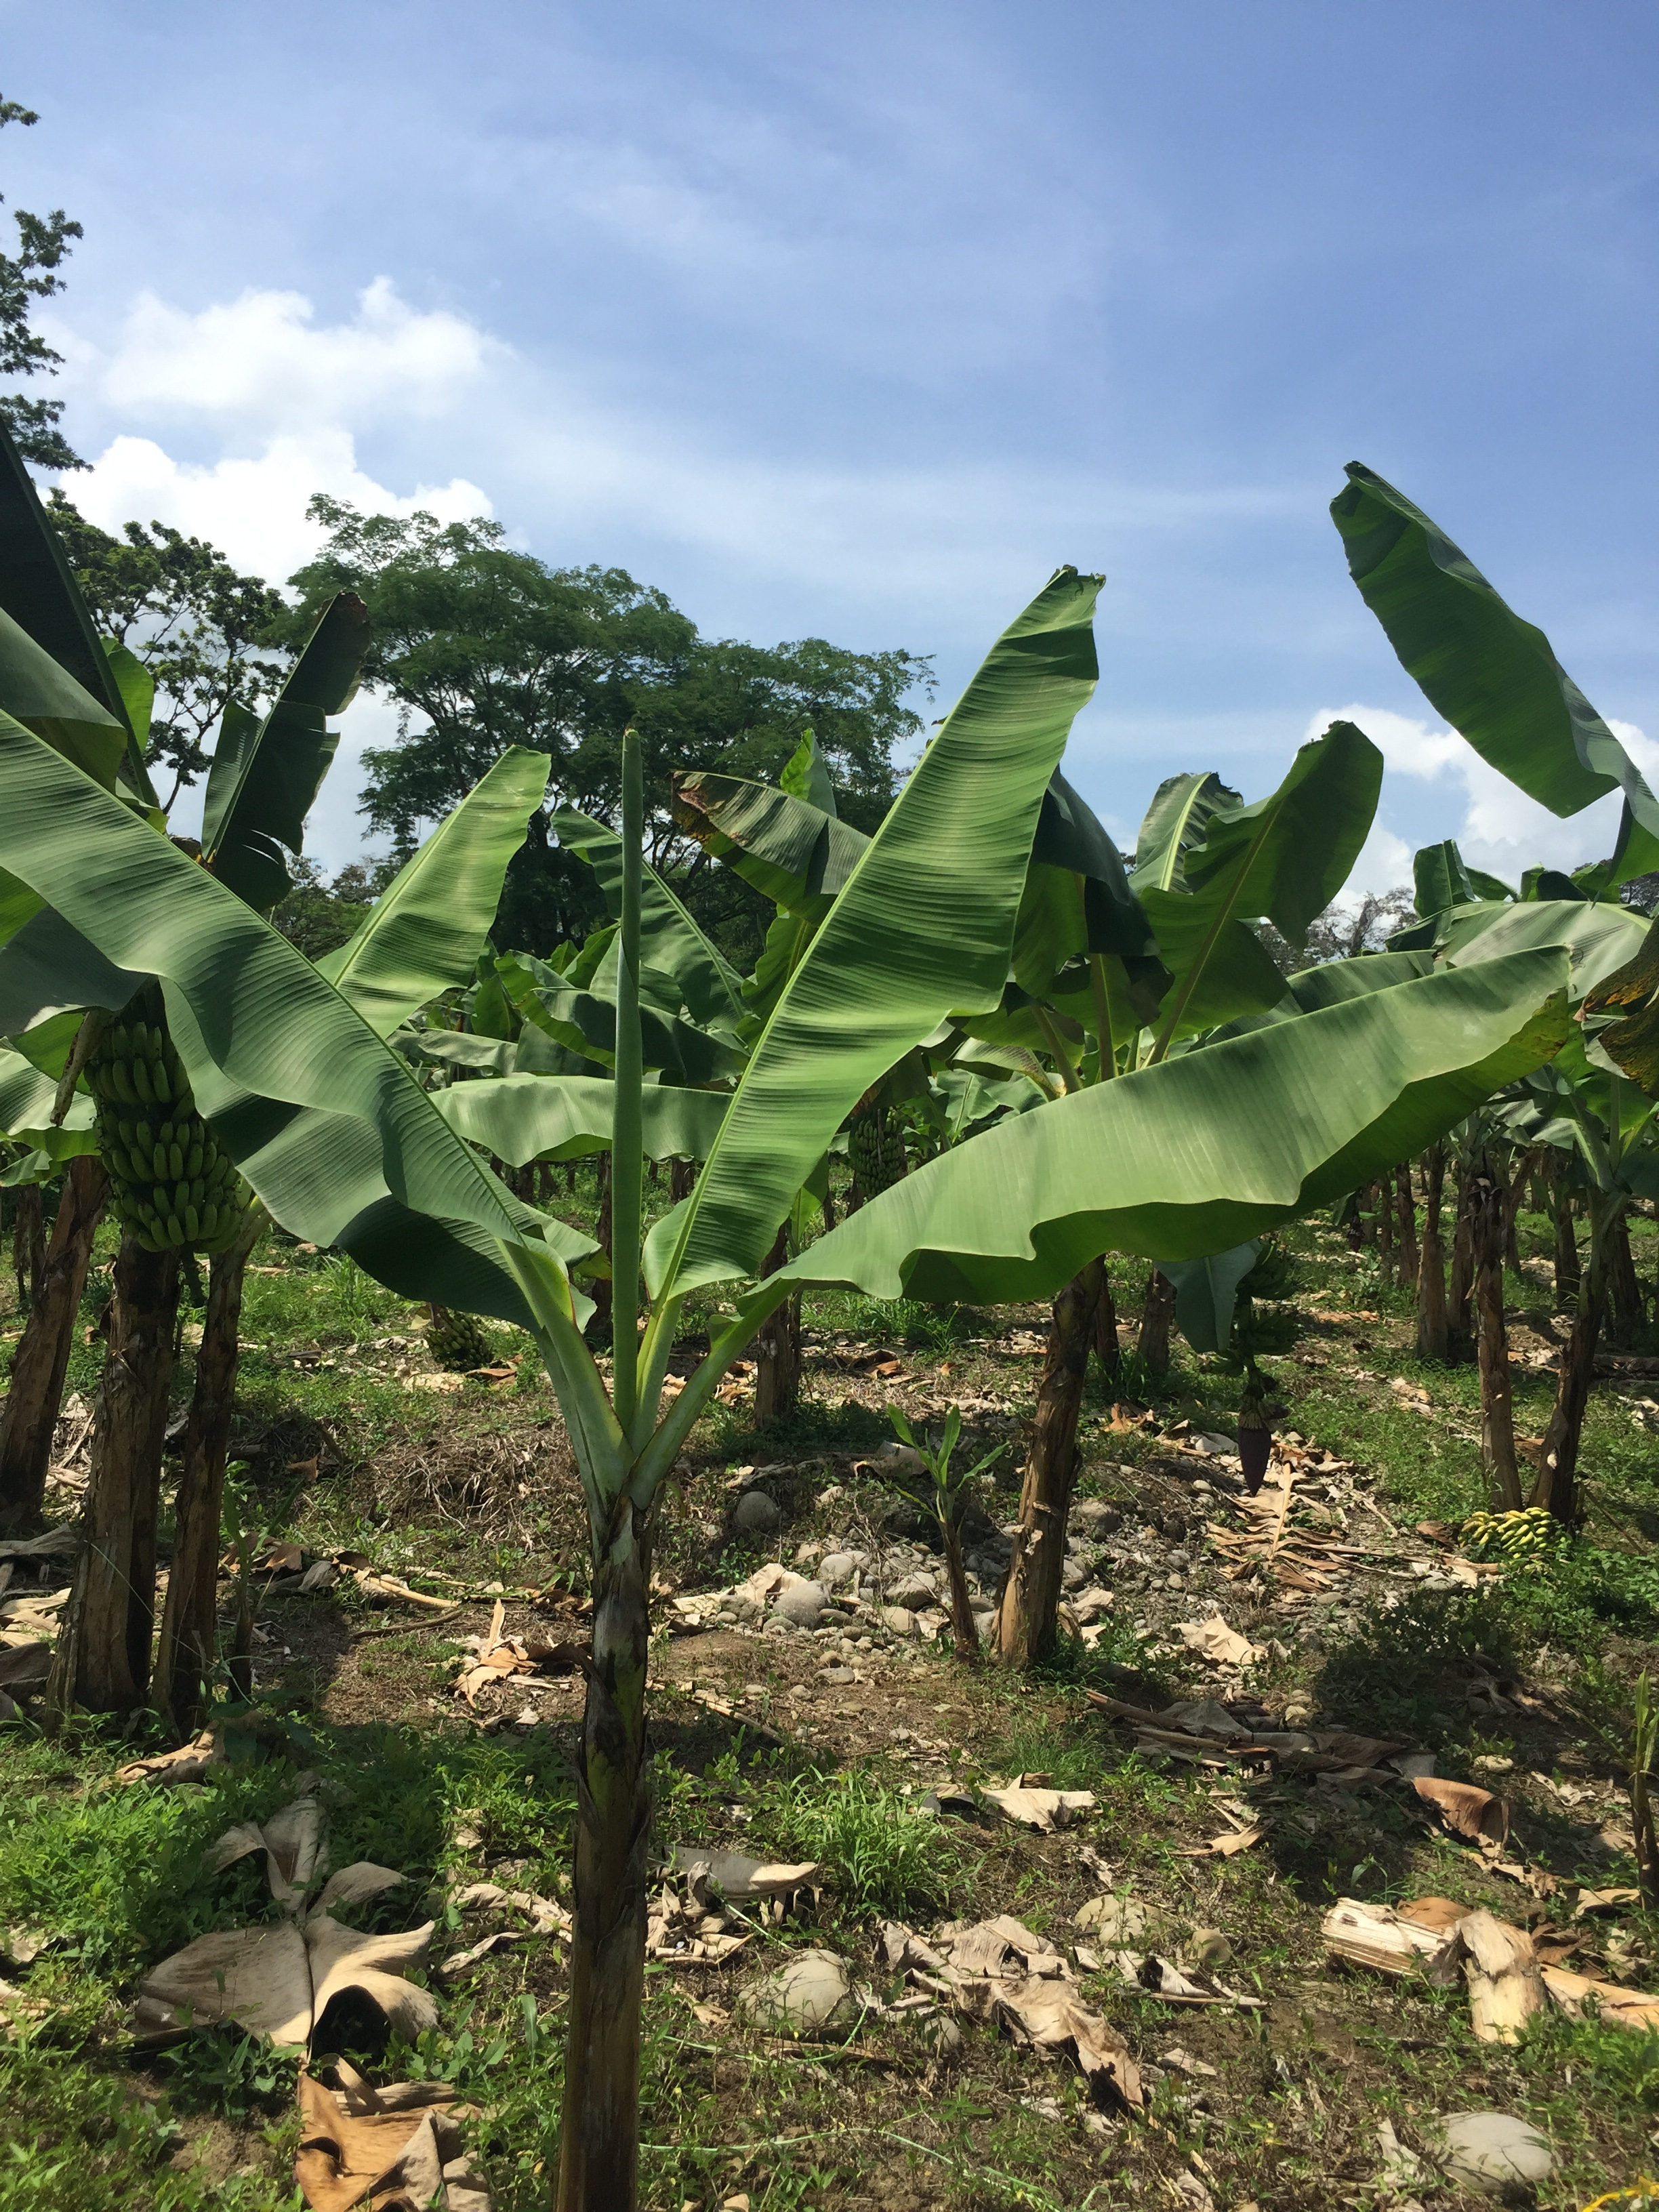candleleafs: (613, 726, 641, 1409)
